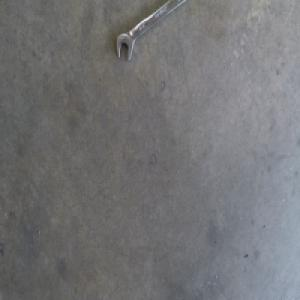Wrench: (115, 0, 182, 60)
